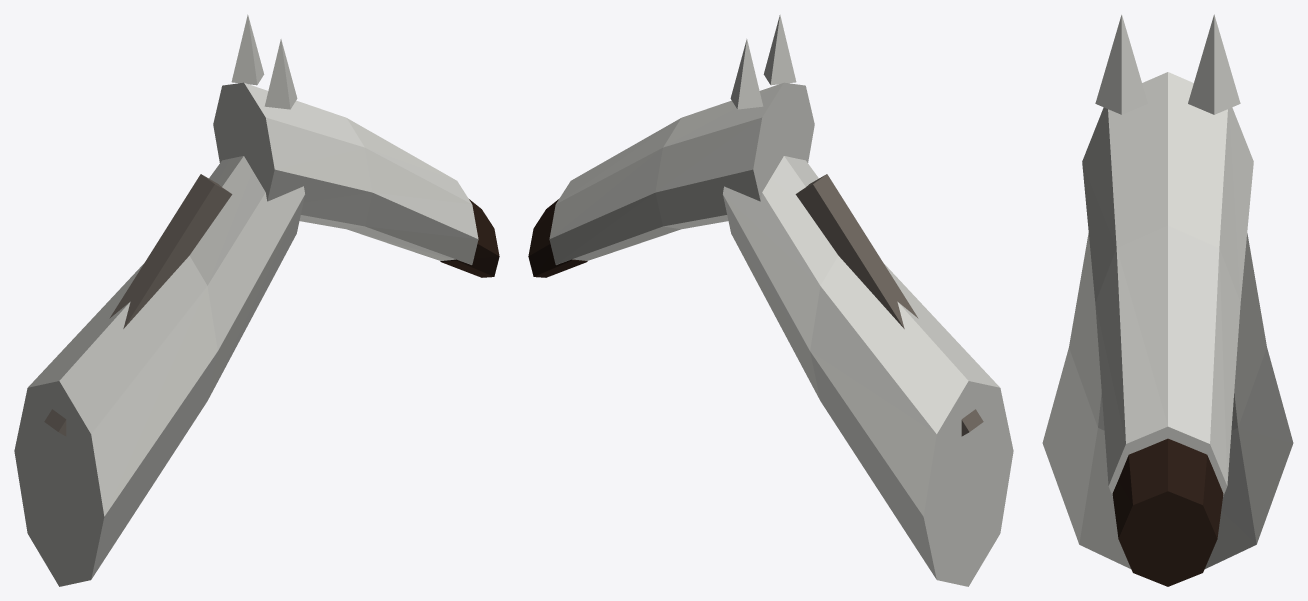
Rendered from carreta_head_percheron.obj.
The picture shows the model from 3 angles, left to right: view 1: azimuth 30°, elevation 25°; view 2: azimuth 150°, elevation 25°; view 3: azimuth 270°, elevation 25°; orthographic projection. The views are drawn at different scales.
Parts seen in each view (by area): view 1: carreta_head_percheron; view 2: carreta_head_percheron; view 3: carreta_head_percheron.
Part boxes in pixels (x1,y1,x2,y2): carreta_head_percheron: [14, 14, 499, 586]; carreta_head_percheron: [528, 14, 1013, 586]; carreta_head_percheron: [1042, 14, 1293, 586].
Size of the model in its own units: 1.22 by 1.38 by 0.4408.
